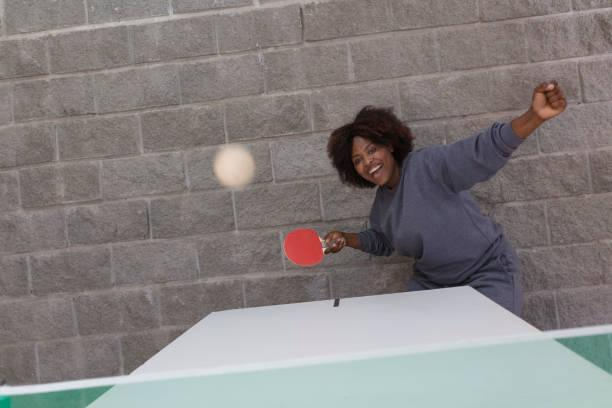ball_pingpong: (211, 141, 256, 188)
